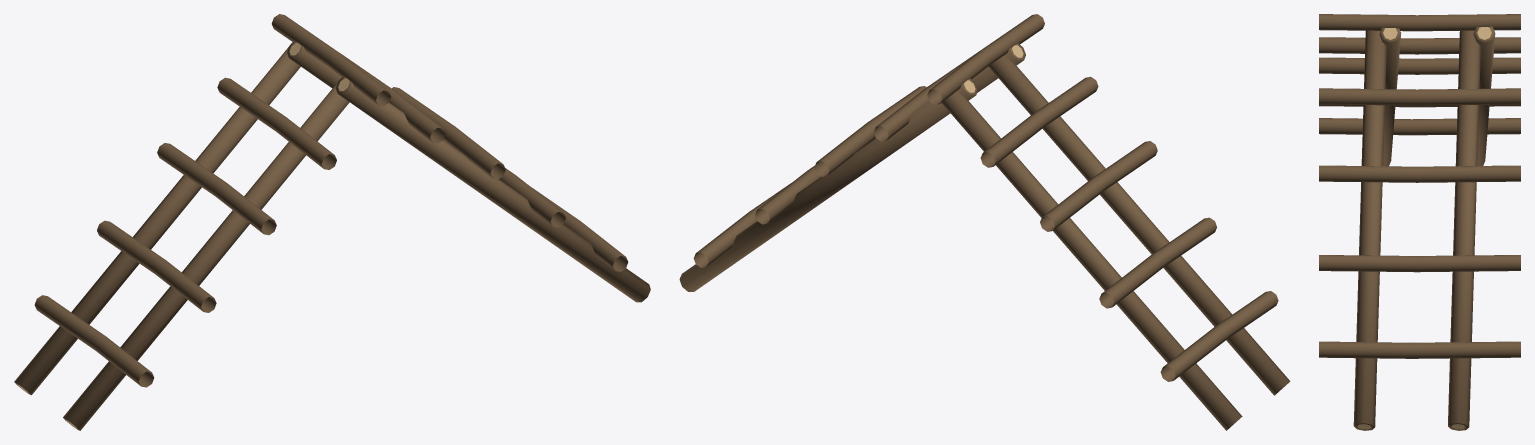
Rendered from rpgpp_ag_roof_support_01_6x3x3_roof_01b.fbx.
3 views of the same model, side by side, from view 1: azimuth 30°, elevation 25°; view 2: azimuth 150°, elevation 25°; view 3: azimuth 270°, elevation 25° (orthographic). The views are drawn at different scales.
Visible parts, largest first — view 1: rpgpp_ag_roof_support_01_6x3x3_roof_01b; view 2: rpgpp_ag_roof_support_01_6x3x3_roof_01b; view 3: rpgpp_ag_roof_support_01_6x3x3_roof_01b.
Part boxes in pixels (x1=…): rpgpp_ag_roof_support_01_6x3x3_roof_01b: x1=14, y1=14, x2=650, y2=430; rpgpp_ag_roof_support_01_6x3x3_roof_01b: x1=679, y1=14, x2=1290, y2=430; rpgpp_ag_roof_support_01_6x3x3_roof_01b: x1=1319, y1=14, x2=1520, y2=430.
Bounding box in the file's own units: 9.56 × 4.7 × 3.
